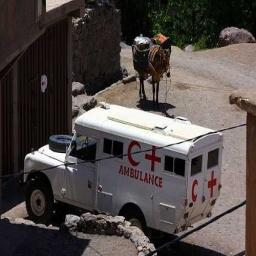Ambulance: (24, 103, 222, 233)
